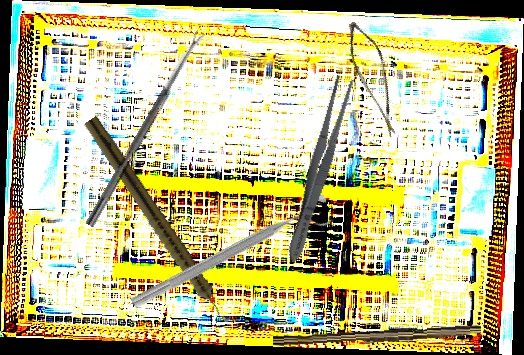Dressing Forceps: (280, 72, 358, 266)
Fixation Ring: (127, 189, 338, 326)
Handpiece: (79, 115, 230, 324)
Micro Scissor: (329, 17, 422, 139)
Scalpel Handle: (272, 321, 482, 353)
Surgical Spoon: (85, 29, 206, 229)
